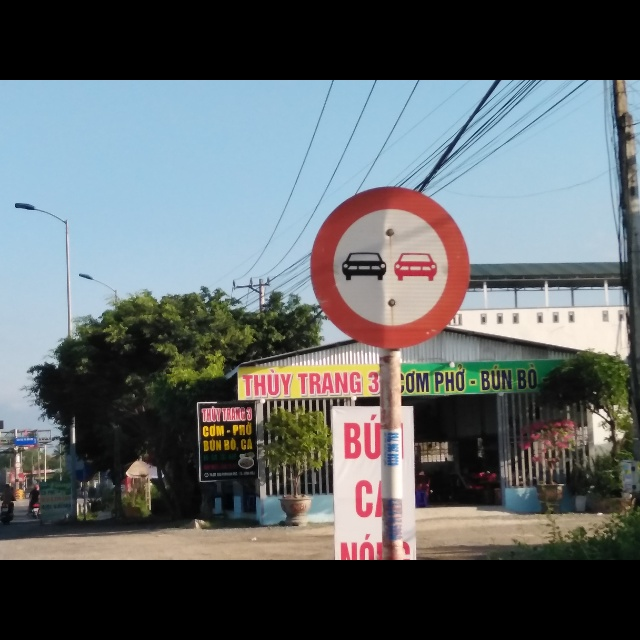Cấm vượt: (309, 184, 472, 351)
